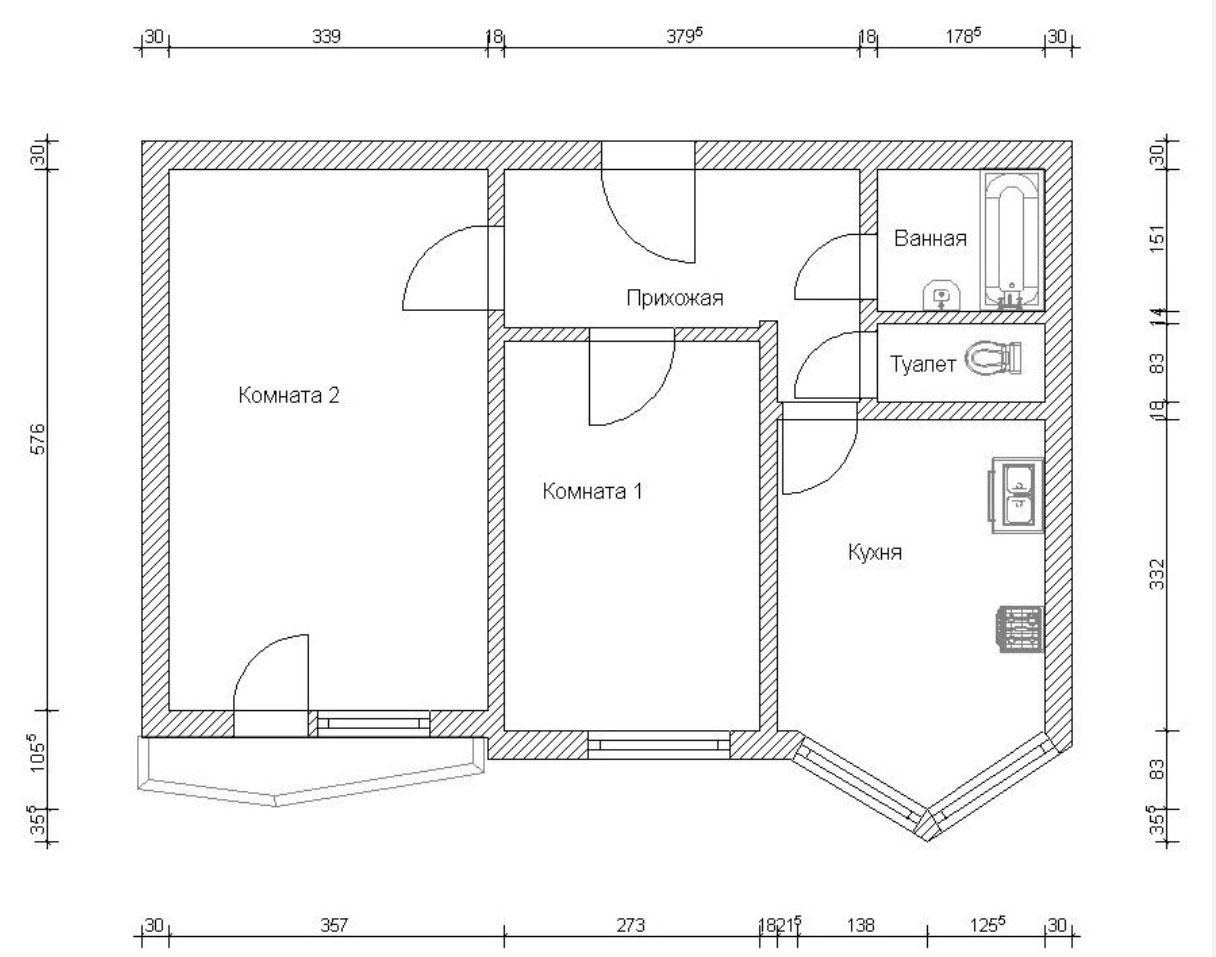balcony: (147, 736, 474, 799)
bathroom: (879, 169, 1046, 310)
bedroom: (504, 343, 763, 733)
hallway: (506, 171, 863, 400)
kitchen: (777, 421, 1047, 809)
living_room: (169, 167, 490, 711)
toilet: (877, 326, 1046, 401)
